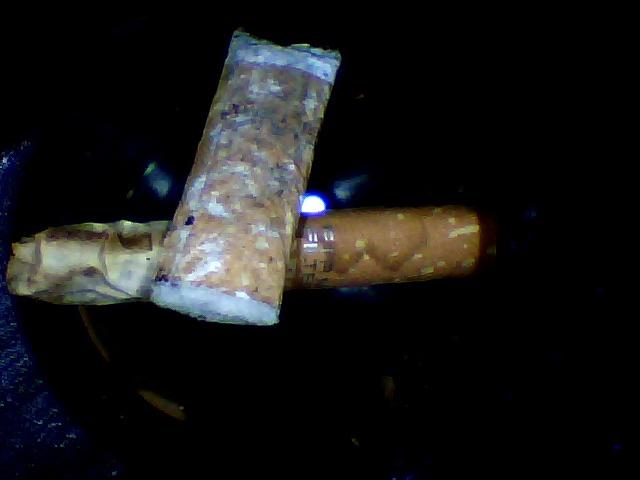megot: (131, 26, 355, 328), (1, 186, 490, 306)
